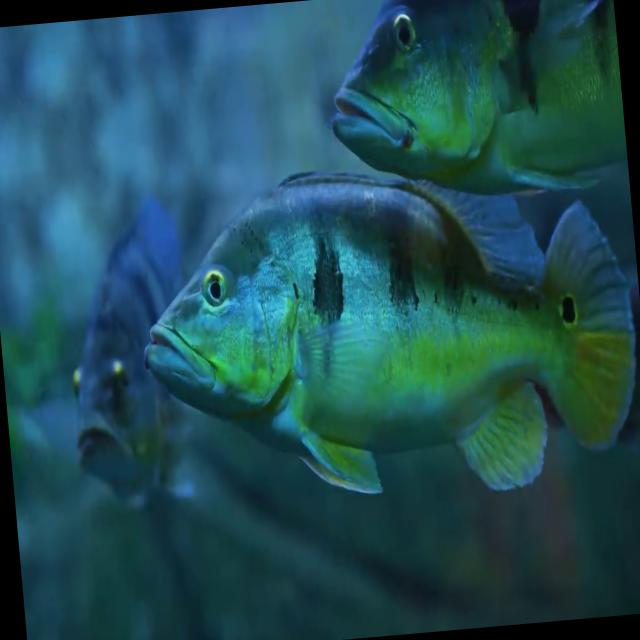fish: (128, 140, 640, 524), (318, 0, 628, 190), (49, 171, 189, 514)
